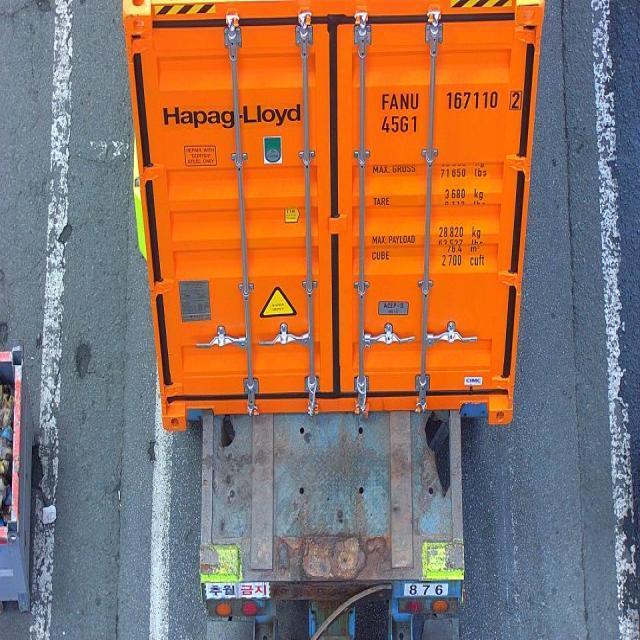ISO: (380, 114, 420, 130)
container_number: (384, 88, 522, 112)
